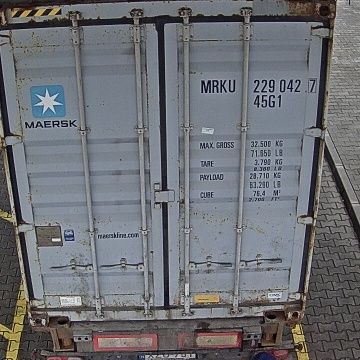serial_id: (200, 79, 315, 93)
